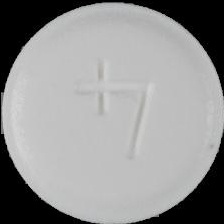16590-545: (0, 0, 224, 224)
